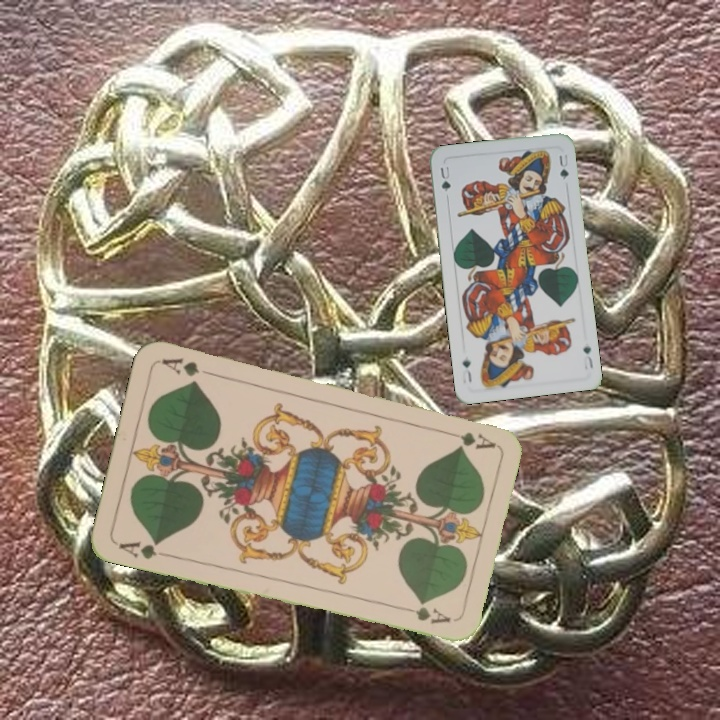GA: (439, 426, 498, 452), (114, 536, 172, 562)
GU: (436, 162, 453, 194), (579, 341, 596, 372)
